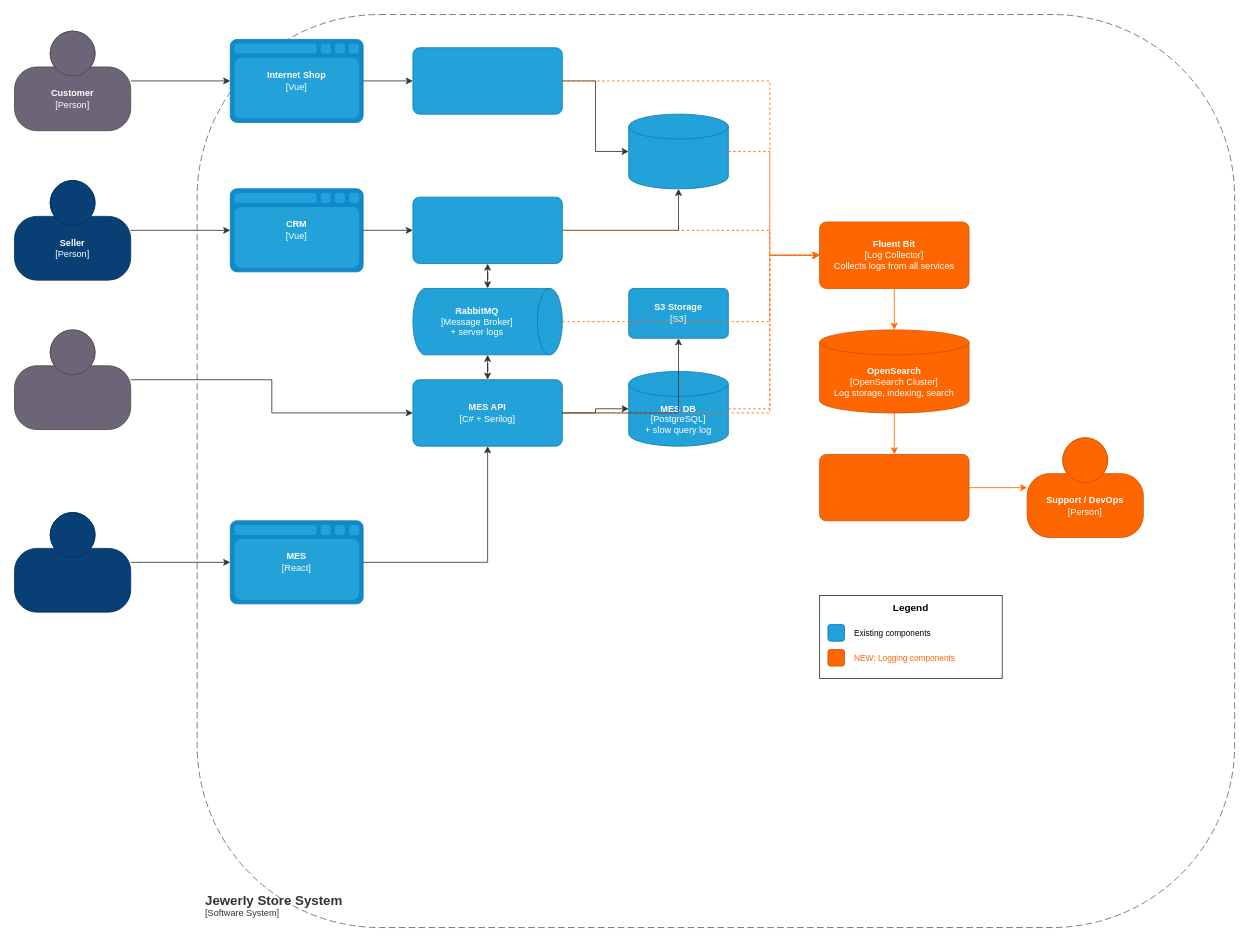
This 1249x942 diagram has some shape labels left out. The box of each missing label's shape, as (x1, y1, x2, y2) in pixels:
API User [Person]: (14, 329, 131, 430)
CRM API [Spring Boot + Logback]: (412, 196, 562, 264)
OpenSearch Dashboards [Dashboards] Search UI, visualizations, alerts: (819, 454, 969, 521)
Operator [Person]: (14, 512, 131, 612)
Shop API [Spring Boot + Logback]: (412, 47, 562, 114)
Shop DB [PostgreSQL] + slow query log: (628, 113, 728, 189)
